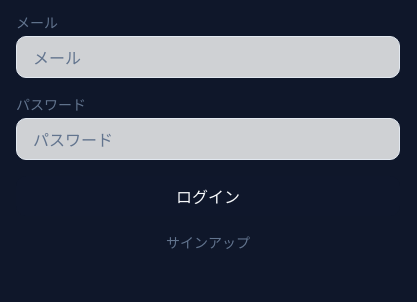
LoginSignupForm › 認証エラー時にエラーメッセージを表示する
The image size is (417, 302).
Step 1. Type "test@example.com" into the field with placeholder "メール" → (208, 57), box [16,36,400,78]
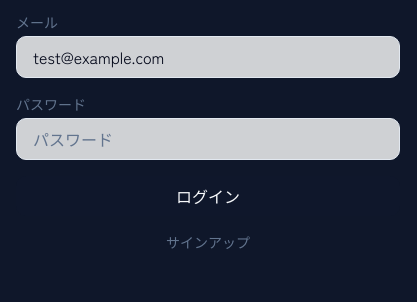
Step 2. Type "wrong" into the password field with placeholder "パスワード" → (208, 139), box [16,118,400,160]
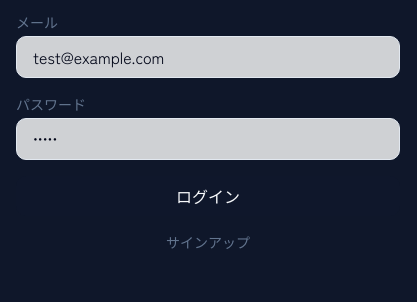
Step 3. Click the button "ログイン" → (208, 196), box [16,176,400,216]
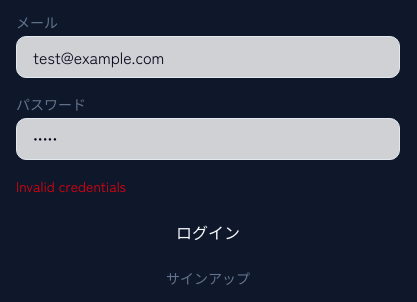
expect the text "Invalid credentials" is shown: met, box [16,176,126,196]
